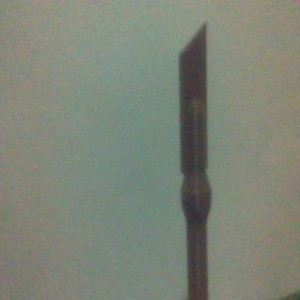cutter: (177, 22, 213, 300)
